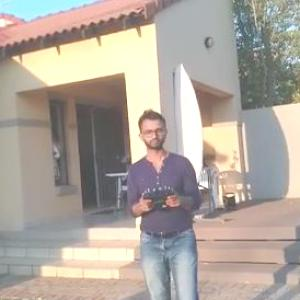follow: (126, 106, 205, 299)
